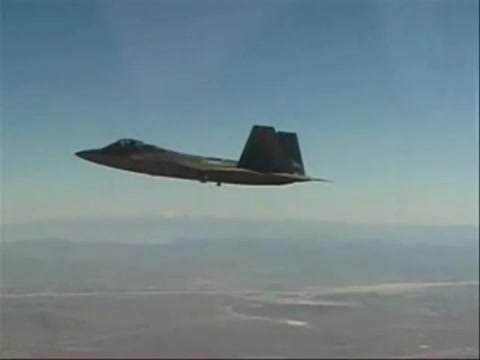aeroplane: (74, 124, 333, 188)
